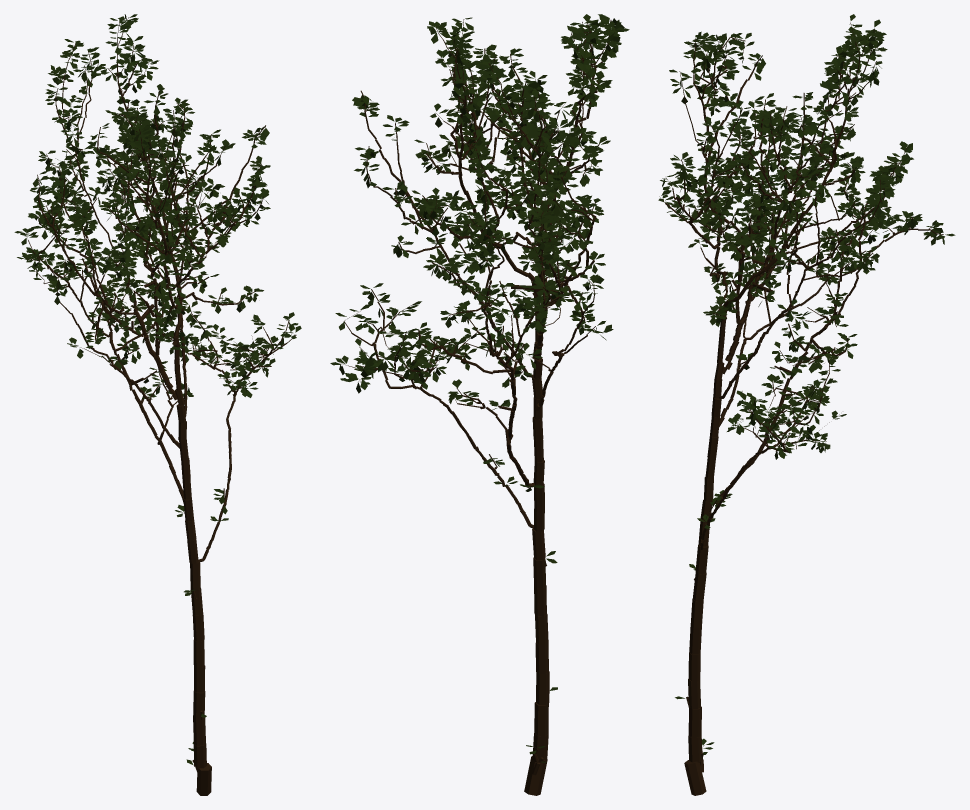
Rendered from 2022_tree_272.obj.
3 renders of one model, left to right at view 1: azimuth 30°, elevation 25°; view 2: azimuth 150°, elevation 25°; view 3: azimuth 270°, elevation 25°, orthographic. The views are drawn at different scales.
Visible parts, largest first — view 1: Leaves, TrunkAndBranches; view 2: Leaves, TrunkAndBranches; view 3: Leaves, TrunkAndBranches.
Part boxes in pixels (<box>): Leaves: <box>14,14,301,765</box>; TrunkAndBranches: <box>26,17,296,795</box>; Leaves: <box>330,14,629,762</box>; TrunkAndBranches: <box>340,19,614,795</box>; Leaves: <box>658,14,955,755</box>; TrunkAndBranches: <box>659,22,943,795</box>.
Bounding box in the file's own units: 7.76 × 21.68 × 7.59.
